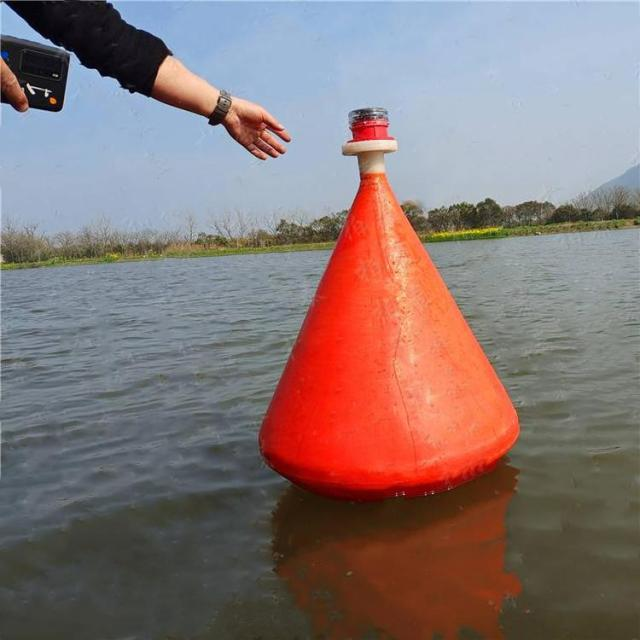buoy: (257, 97, 525, 485)
